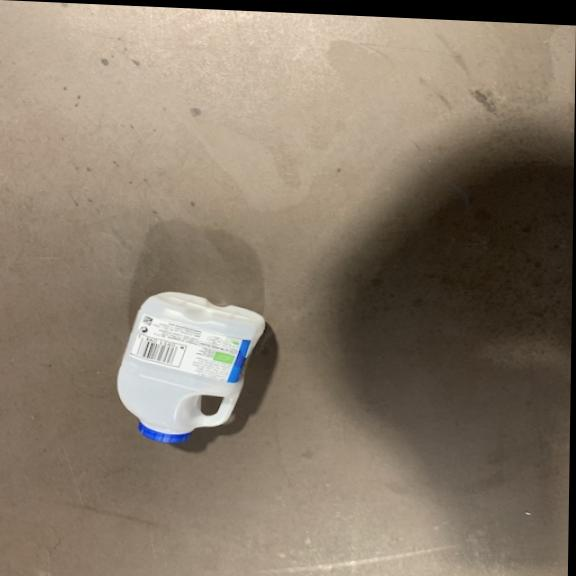Plastik: (118, 287, 268, 451)
